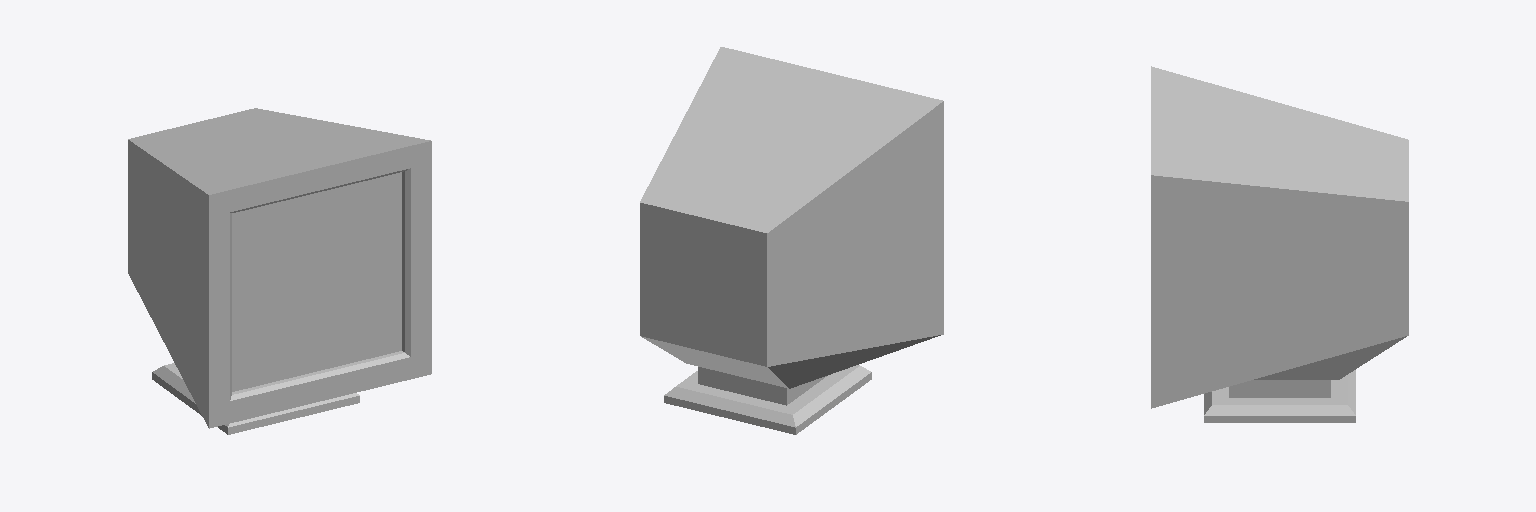
File: Monitor1.obj
The picture shows the model from 3 angles: view 1: azimuth 30°, elevation 25°; view 2: azimuth 150°, elevation 25°; view 3: azimuth 270°, elevation 25°; orthographic projection.
Parts seen in each view (by area): view 1: Cube, Cube.001; view 2: Cube; view 3: Cube.
Boxes of the visible parts, x1=… form: Cube: x1=128, y1=108, x2=431, y2=434; Cube.001: x1=232, y1=172, x2=401, y2=391; Cube: x1=640, y1=47, x2=943, y2=434; Cube: x1=1151, y1=66, x2=1408, y2=422.
Size of the model in its own units: 2 by 2.32 by 2.